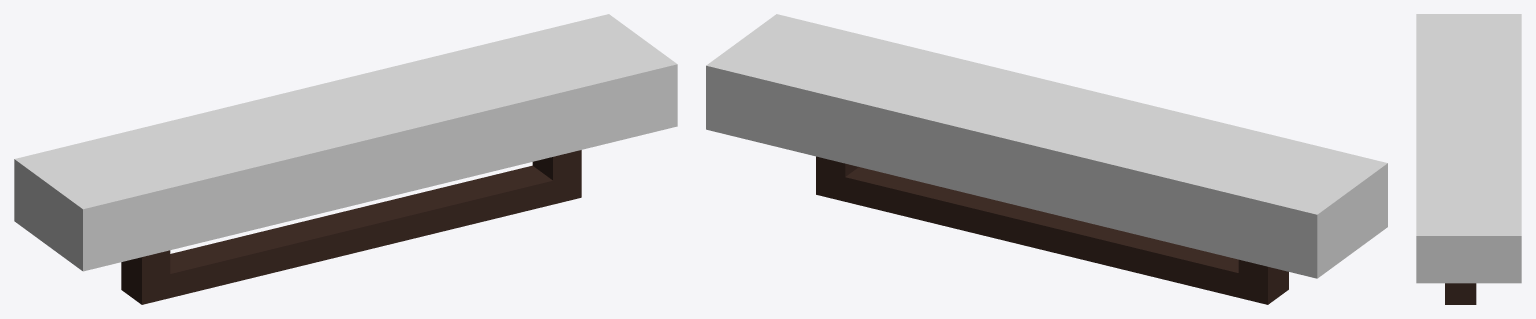
The model's file is Door_02.FBX.
3 views of the same model, side by side, from view 1: azimuth 30°, elevation 25°; view 2: azimuth 150°, elevation 25°; view 3: azimuth 270°, elevation 25° (orthographic). The views are drawn at different scales.
Visible parts, largest first — view 1: Door_02; view 2: Door_02; view 3: Door_02.
Boxes of the visible parts, x1,y1,x2,y2 form: Door_02: (14, 14, 677, 304); Door_02: (706, 14, 1387, 304); Door_02: (1416, 14, 1521, 304).
Bounding box in the file's own units: 100 × 20.6 × 20.
